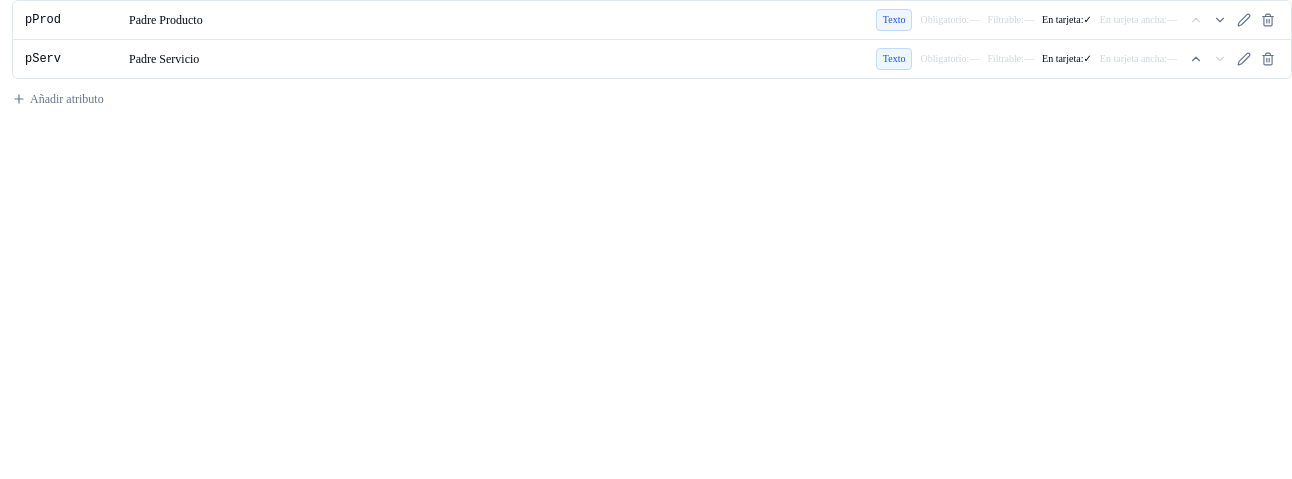
Test: AttributeSchemaEditor — impacto en subcategorías (contador, editando el PADRE) › varias hijas se muestran cada una con su propio impacto
Click the button with test id "add-attribute-btn".
click(58, 99)  # box [12, 91, 104, 107]
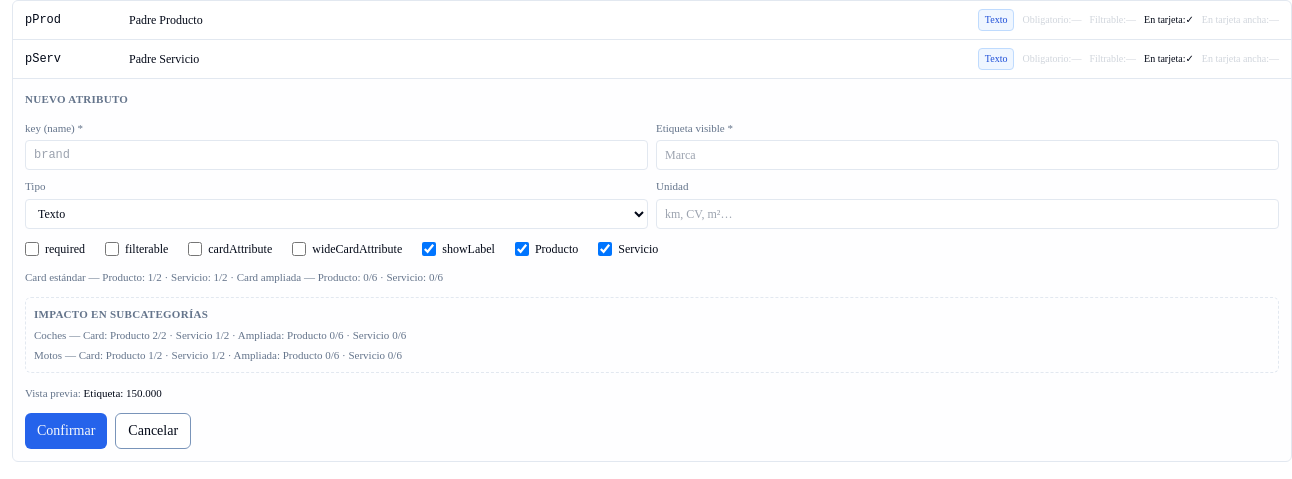
Now the text with test id "child-impact-Coches" is shown, box [34, 328, 406, 340]
Now the text with test id "child-impact-Motos" shows "Producto 1/2", box [34, 349, 402, 361]
Now the text with test id "child-impact-Motos" shows "Servicio 1/2", box [34, 349, 402, 361]
